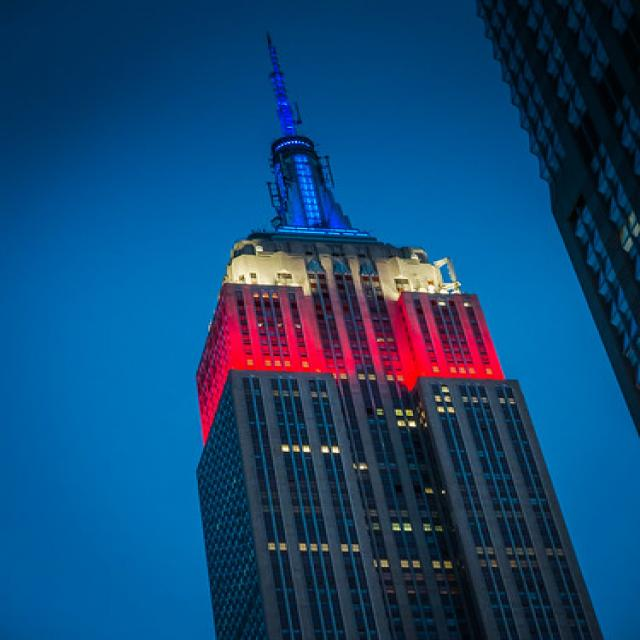Normal_building: (178, 220, 608, 640)
